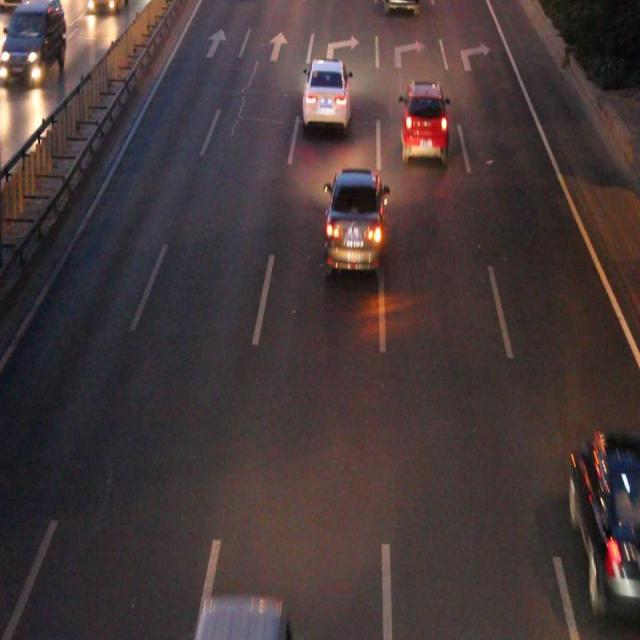car: (570, 433, 640, 593), (326, 171, 384, 268), (401, 85, 446, 157), (303, 61, 349, 124)
